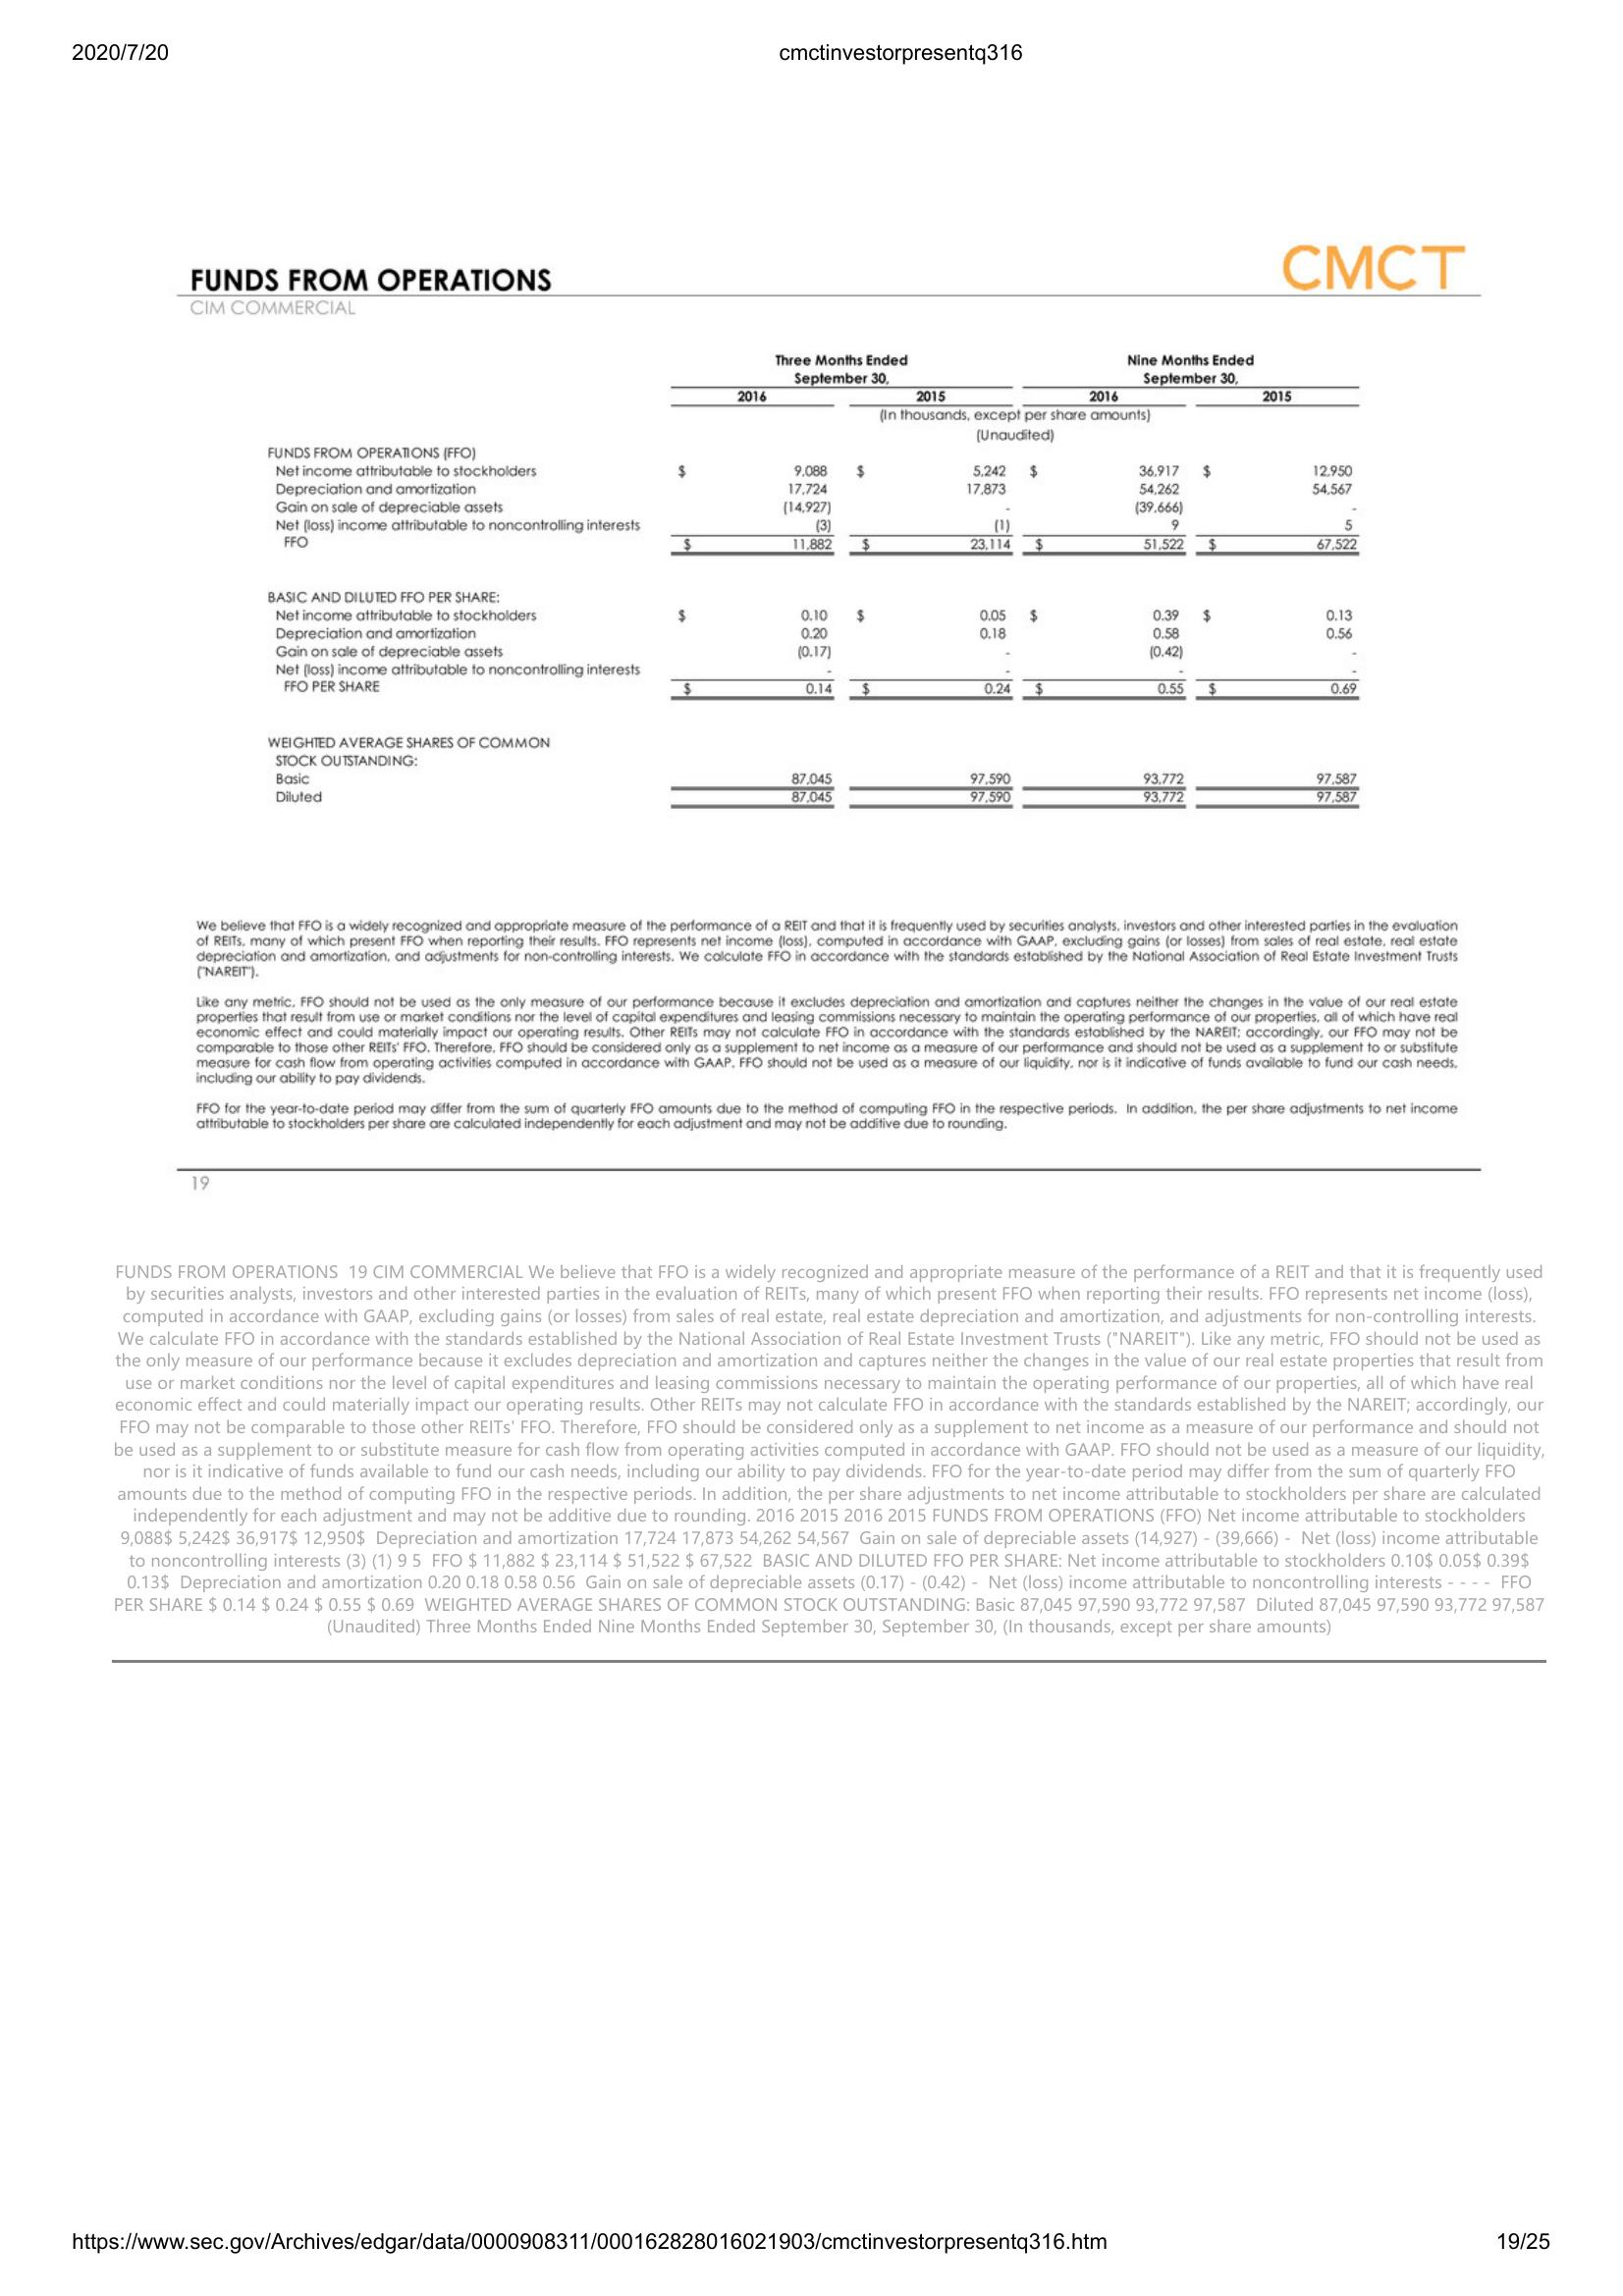table: (260, 349, 1368, 816)
